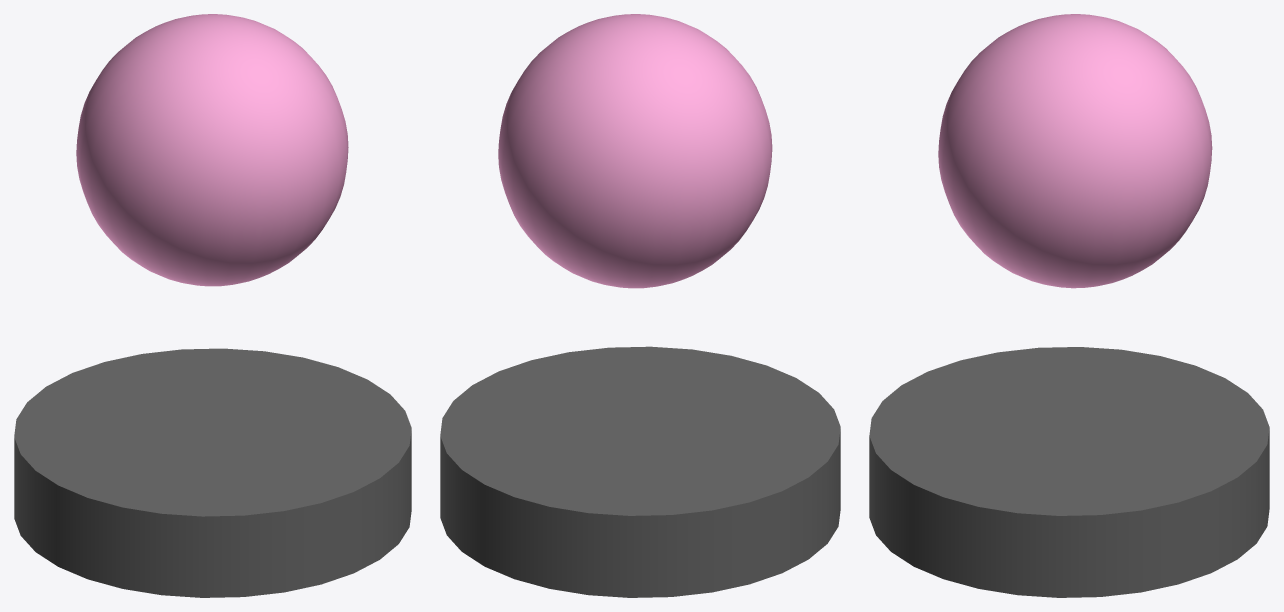
Rendered from sphPink.glb.
3 renders of one model, left to right at view 1: azimuth 30°, elevation 25°; view 2: azimuth 150°, elevation 25°; view 3: azimuth 270°, elevation 25°, orthographic.
Visible parts, largest first — view 1: 029_Cylinder_-_baked_12, 028_Sphere_3; view 2: 029_Cylinder_-_baked_12, 028_Sphere_3; view 3: 029_Cylinder_-_baked_12, 028_Sphere_3.
Part boxes in pixels (x1,y1,x2,y2): 029_Cylinder_-_baked_12: [14, 348, 411, 597]; 028_Sphere_3: [76, 14, 348, 286]; 029_Cylinder_-_baked_12: [440, 346, 840, 597]; 028_Sphere_3: [498, 14, 772, 288]; 029_Cylinder_-_baked_12: [869, 347, 1269, 597]; 028_Sphere_3: [938, 14, 1212, 288].
Size of the model in its own units: 17.32 by 23.29 by 17.32.
